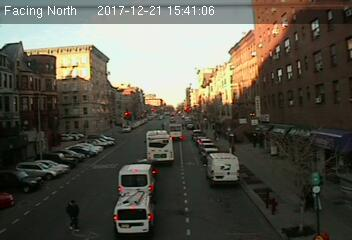bus: (145, 130, 174, 163)
truck: (111, 189, 155, 235), (204, 152, 240, 183), (118, 163, 155, 192)
